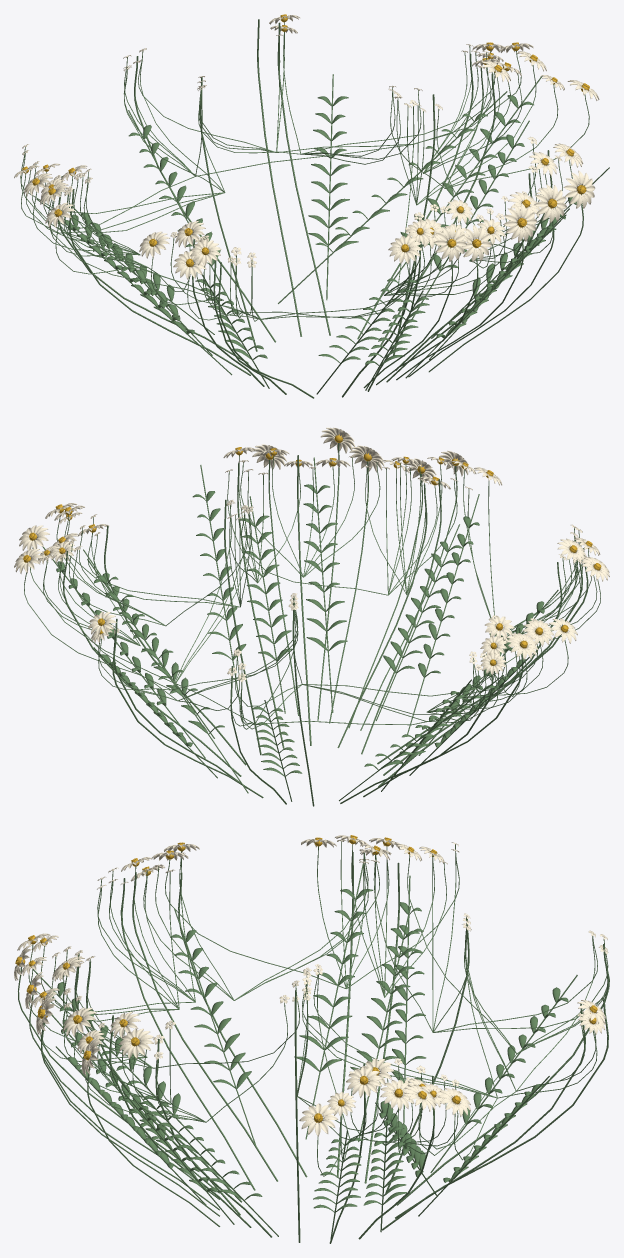
Rendered from fillers.glb.
3 views of the same model, one above another, from view 1: azimuth 30°, elevation 25°; view 2: azimuth 150°, elevation 25°; view 3: azimuth 270°, elevation 25° (orthographic). The views are drawn at different scales.
Visible parts, largest first — view 1: Filler_Spray_0, Filler_petals, Filler_pollen; view 2: Filler_Spray_0, Filler_petals, Filler_pollen; view 3: Filler_Spray_0, Filler_petals, Filler_pollen.
Boxes of the visible parts, <box> form: Filler_Spray_0: <box>20,19,609,398</box>; Filler_petals: <box>14,15,599,279</box>; Filler_pollen: <box>22,14,589,267</box>; Filler_Spray_0: <box>24,443,600,806</box>; Filler_petals: <box>14,427,609,682</box>; Filler_pollen: <box>23,434,601,665</box>; Filler_Spray_0: <box>18,841,609,1243</box>; Filler_petals: <box>14,835,608,1136</box>; Filler_pollen: <box>15,835,597,1122</box>.
Bounding box in the file's own units: 2.05 × 0.9456 × 1.81.
